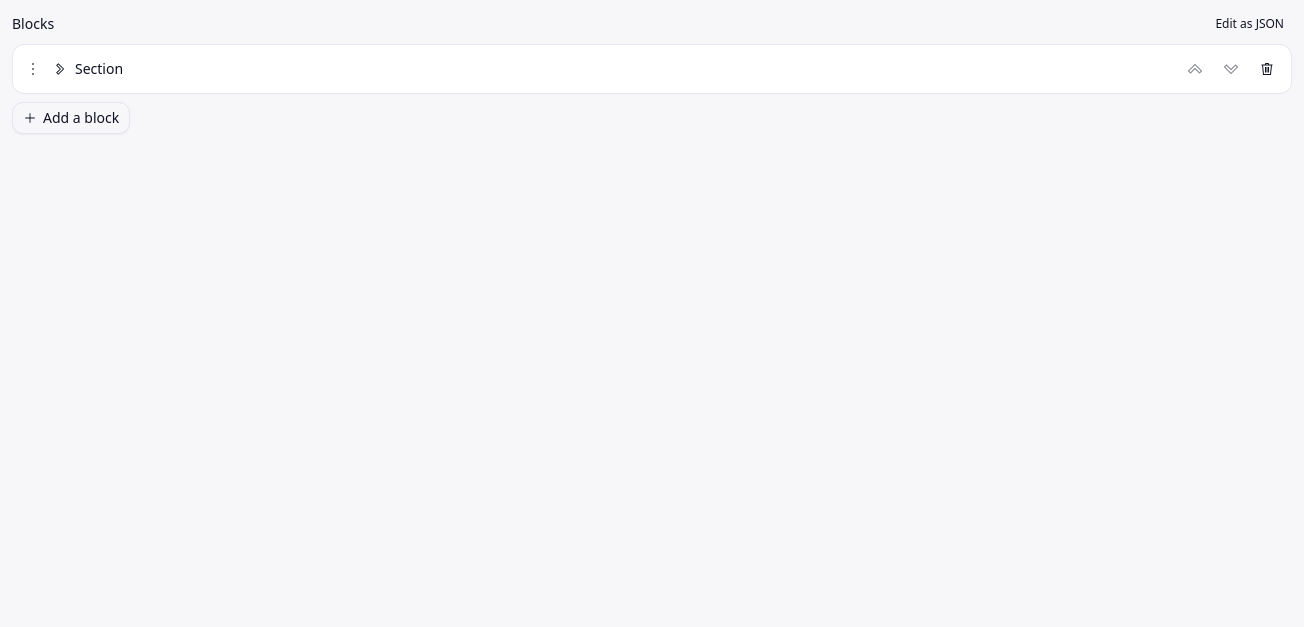
Test: a recipe field › flags a name with a trailing space, which the site does not trim
This screenshot has width=1304, height=627.
Click the button "Section" at (99,68), box [49,55,1175,83]
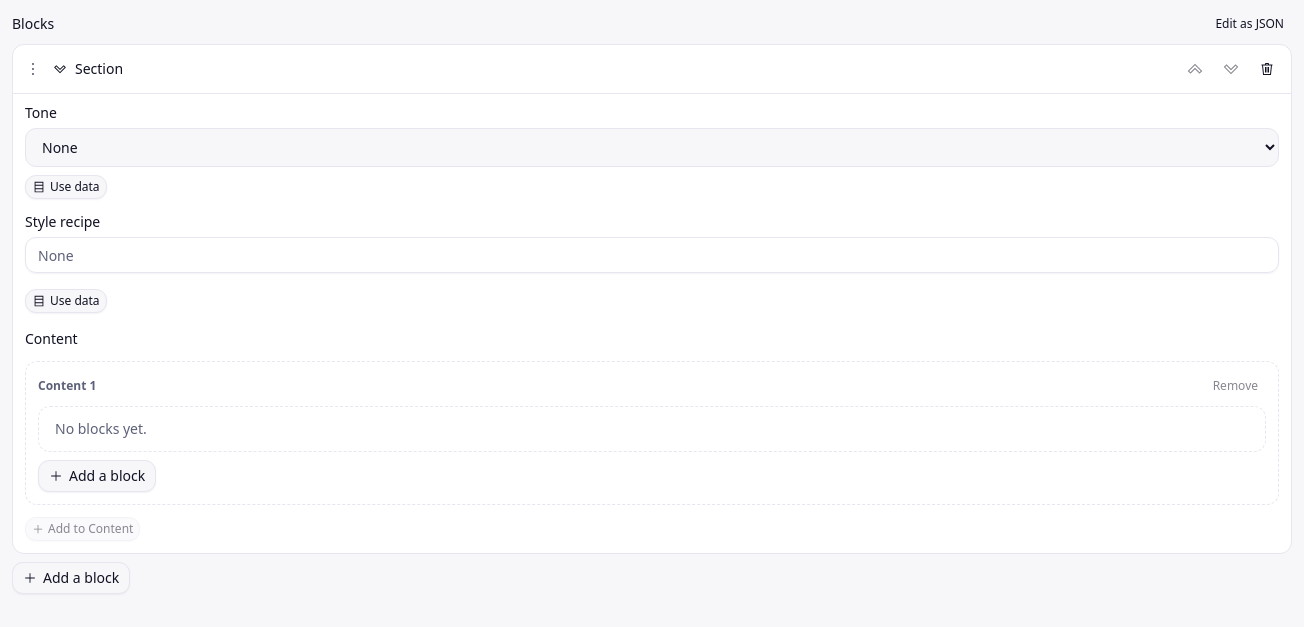
Type "card " into the field labelled "Style recipe" at (652,255), box [25,237,1279,273]
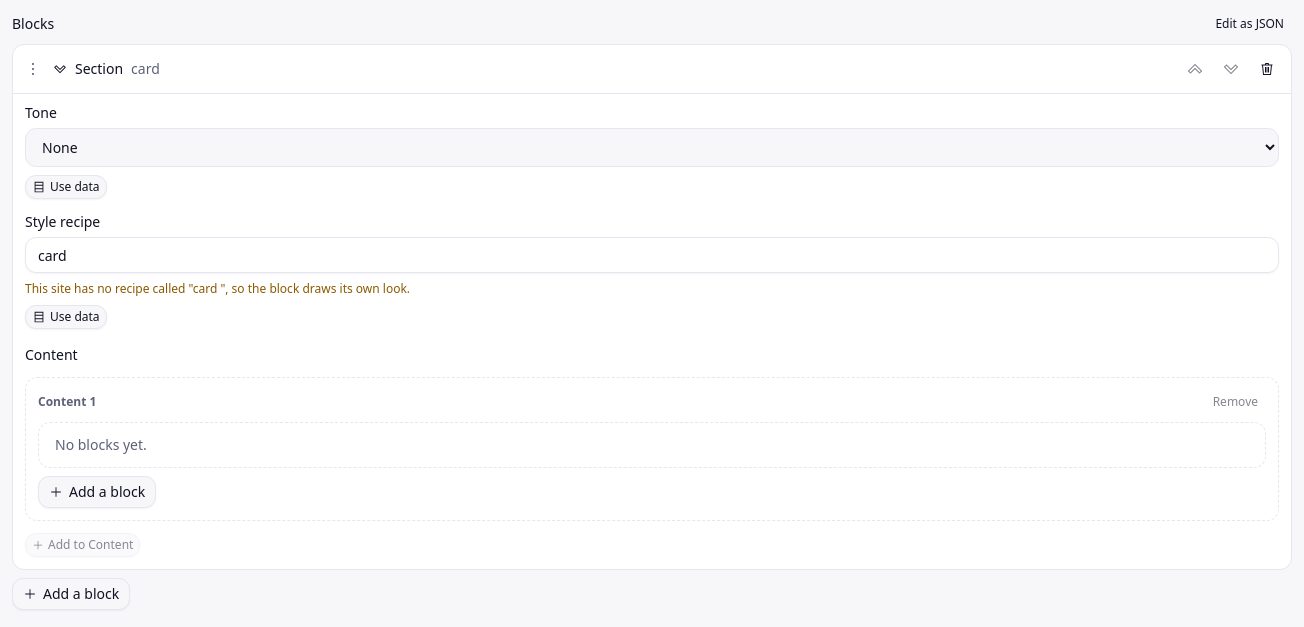
expect the text "This site has no recipe called \"card \", so the block draws its own look." is shown: met, box [25,280,410,297]
